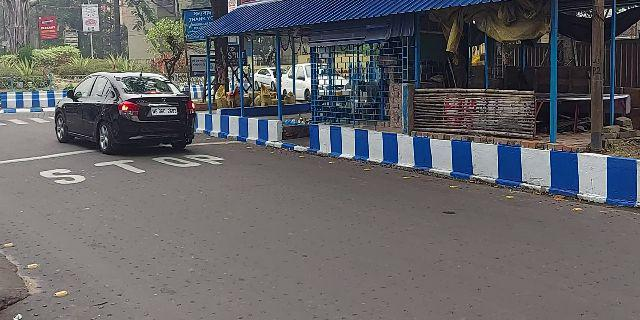Car: (54, 74, 205, 152)
